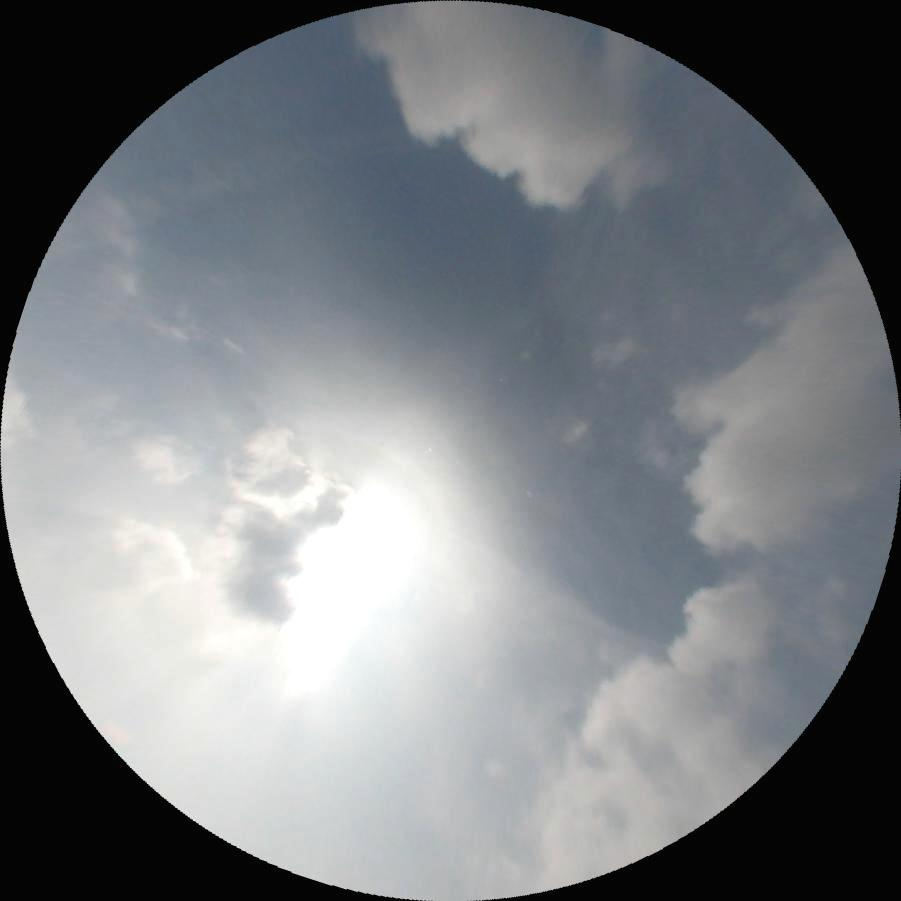sun: (260, 488, 411, 658)
